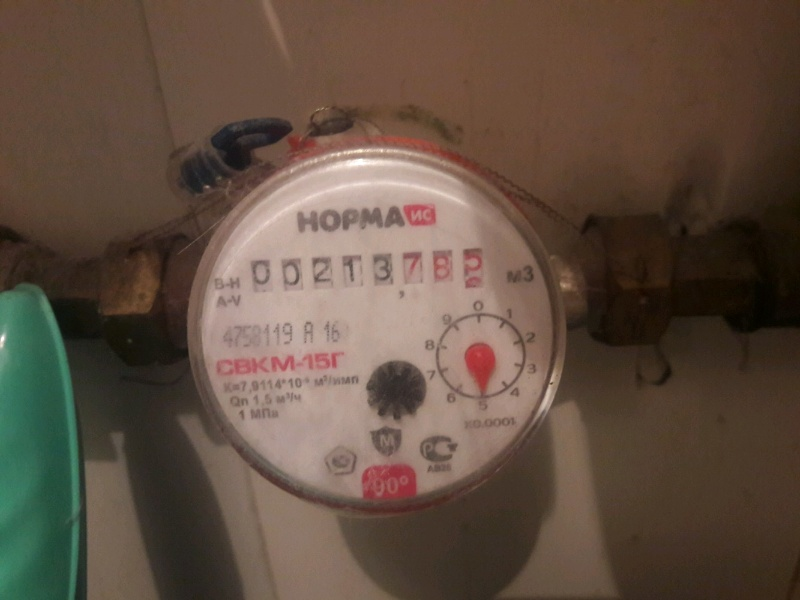meter: (235, 251, 498, 288)
